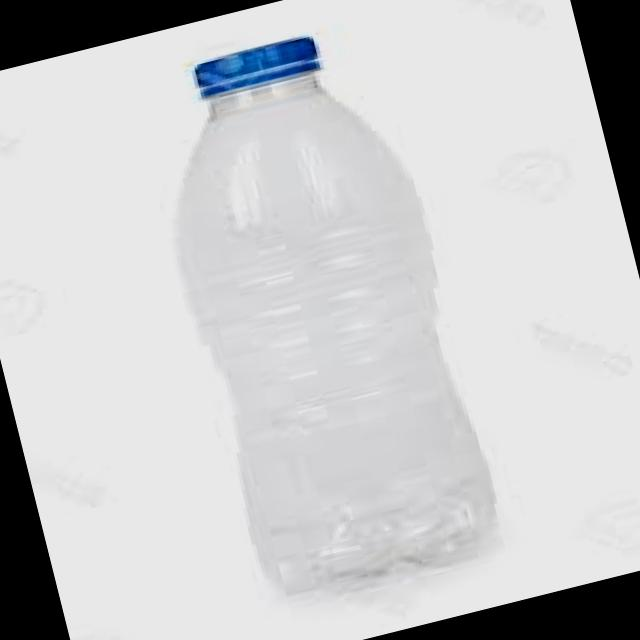bottle: (177, 38, 494, 592)
